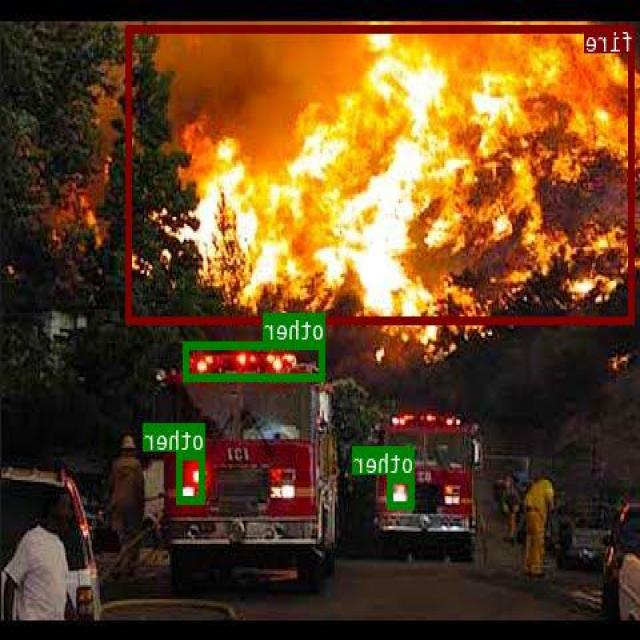fire: (128, 23, 635, 323)
other: (185, 341, 325, 379), (178, 451, 206, 502), (388, 474, 415, 507)
